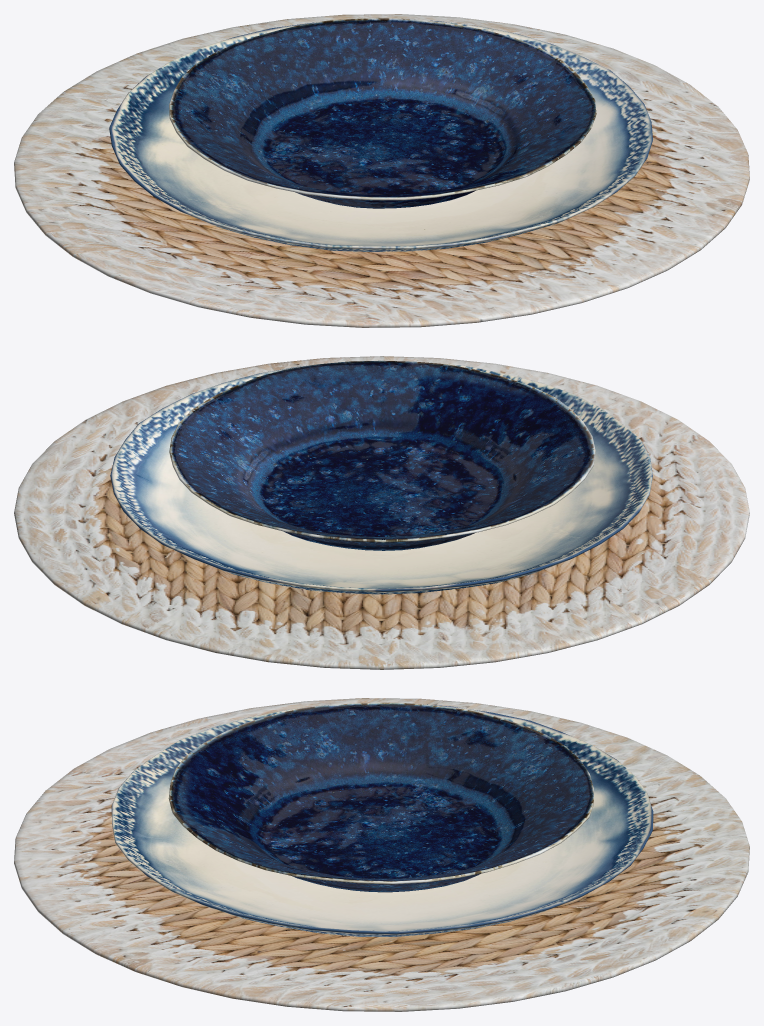
Rendered from PlateSet.FBX.
3 views of the same model, one above another, from view 1: azimuth 30°, elevation 25°; view 2: azimuth 150°, elevation 25°; view 3: azimuth 270°, elevation 25° (orthographic).
Parts seen in each view (by area): view 1: PlateSet; view 2: PlateSet; view 3: PlateSet.
Part boxes in pixels (bbox=[...]): PlateSet: bbox=[14, 14, 749, 327]; PlateSet: bbox=[14, 356, 749, 669]; PlateSet: bbox=[14, 698, 749, 1011].
Bounding box in the file's own units: 3.75 × 0.3652 × 3.75.
3 materials, 3 textured.
